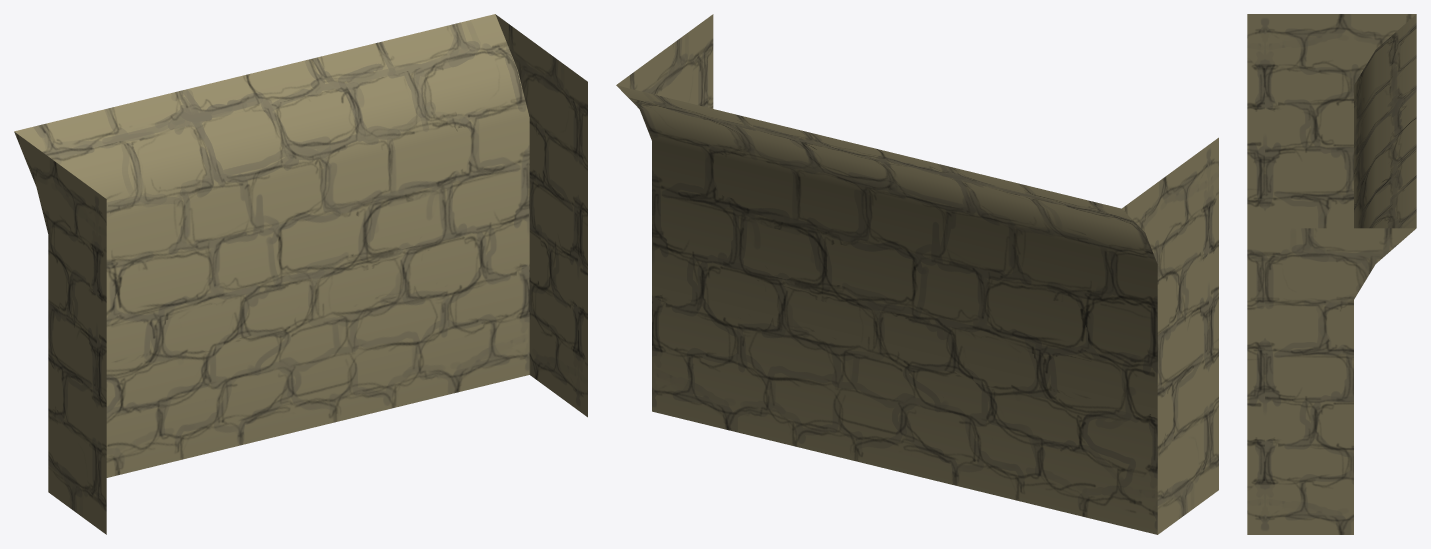
File: WallUpper.fbx
The picture shows the model from 3 angles, left to right: view 1: azimuth 30°, elevation 25°; view 2: azimuth 150°, elevation 25°; view 3: azimuth 270°, elevation 25°; orthographic projection. The views are drawn at different scales.
Parts seen in each view (by area): view 1: WallUpper; view 2: WallUpper; view 3: WallUpper.
Boxes of the visible parts, x1=… form: WallUpper: x1=14, y1=14, x2=587, y2=534; WallUpper: x1=616, y1=14, x2=1218, y2=534; WallUpper: x1=1247, y1=14, x2=1416, y2=534.
Bounding box in the file's own units: 300 × 200 × 100.
